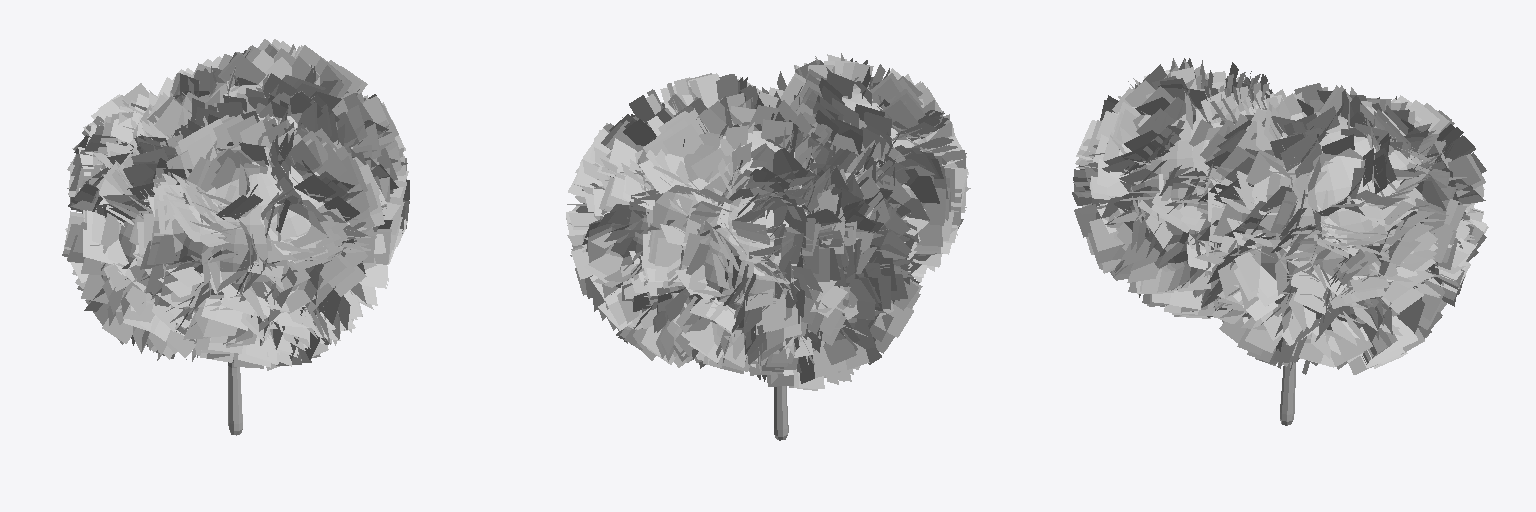
Rendered from Tree3.obj.
The picture shows the model from 3 angles: view 1: azimuth 30°, elevation 25°; view 2: azimuth 150°, elevation 25°; view 3: azimuth 270°, elevation 25°; orthographic projection.
Visible parts, largest first — view 1: Leaves, Sphere.007, Cube.002; view 2: Leaves, Sphere.007, Cube.002; view 3: Leaves, Sphere.007, Cube.002.
Boxes of the visible parts, x1,y1,x2,y2 form: Leaves: [62, 39, 409, 370]; Sphere.007: [101, 82, 352, 324]; Cube.002: [228, 360, 242, 435]; Leaves: [566, 53, 970, 390]; Sphere.007: [610, 88, 926, 342]; Cube.002: [774, 386, 788, 440]; Leaves: [1072, 58, 1488, 374]; Sphere.007: [1120, 89, 1429, 330]; Cube.002: [1280, 362, 1295, 425].
Size of the model in its own units: 8.8 by 9.4 by 10.